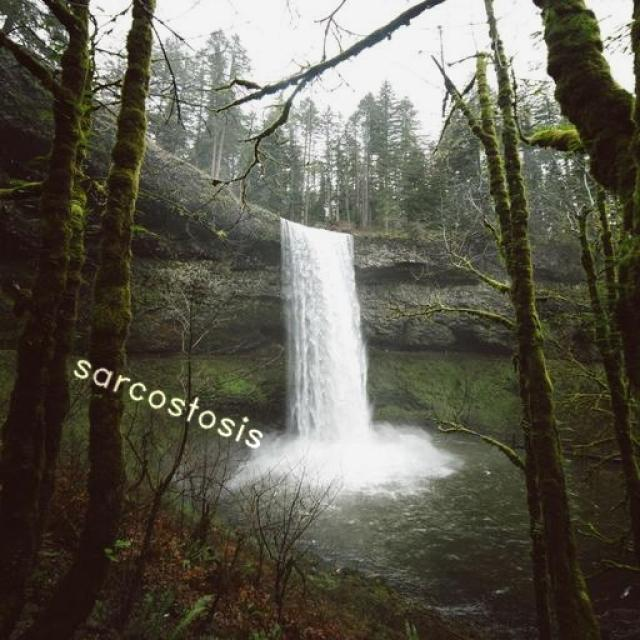watermark: (61, 346, 284, 456)
